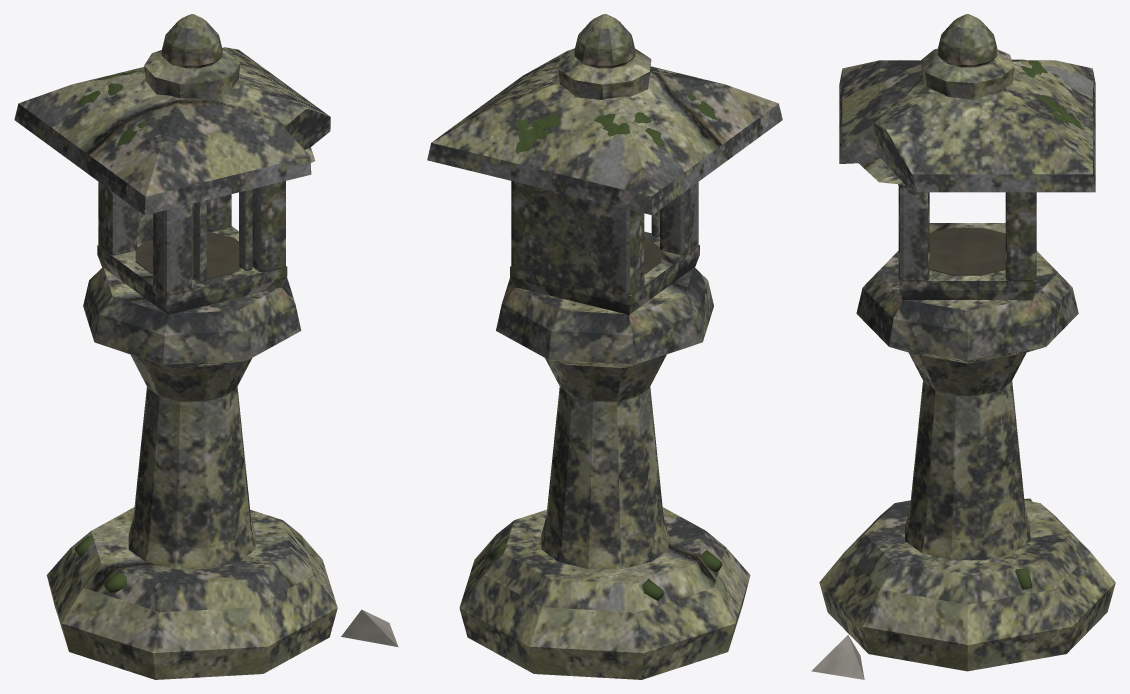
File: moss_stone_lantern.glb
The picture shows the model from 3 angles, left to right: view 1: azimuth 30°, elevation 25°; view 2: azimuth 150°, elevation 25°; view 3: azimuth 270°, elevation 25°; orthographic projection.
Visible parts, largest first — view 1: lantern_weathered_stone_surface, lantern_soot_stone_surface, lantern_roof_moss_surface, lantern_pale_fracture_surface; view 2: lantern_weathered_stone_surface, lantern_roof_moss_surface; view 3: lantern_weathered_stone_surface, lantern_soot_stone_surface, lantern_pale_fracture_surface, lantern_roof_moss_surface.
Part boxes in pixels (x1,y1,x2,y2): lantern_weathered_stone_surface: (14,14,337,679); lantern_soot_stone_surface: (135,231,240,279); lantern_roof_moss_surface: (75,71,148,593); lantern_pale_fracture_surface: (341,609,398,647); lantern_weathered_stone_surface: (427,14,782,679); lantern_roof_moss_surface: (488,93,722,600); lantern_weathered_stone_surface: (819,14,1115,671); lantern_soot_stone_surface: (929,227,1005,275); lantern_pale_fracture_surface: (811,635,864,679); lantern_roof_moss_surface: (1012,59,1084,589).
Size of the model in its own units: 0.76 by 1.6 by 0.74.
4 materials, 4 textured.
